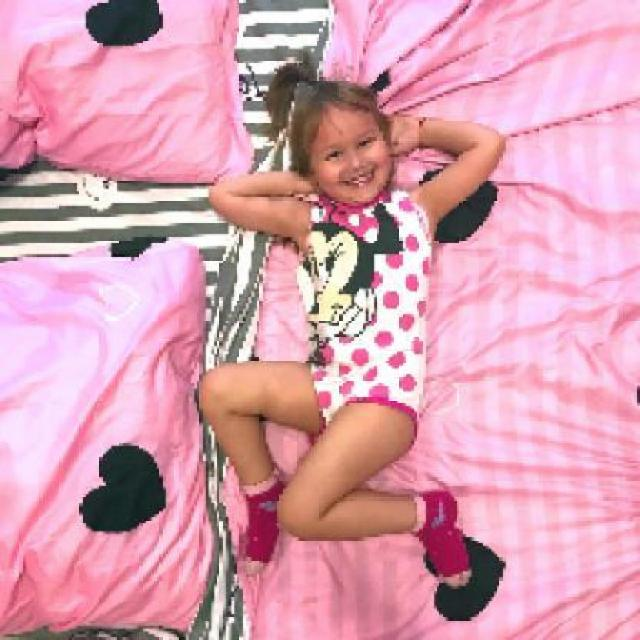child: (197, 63, 509, 620)
